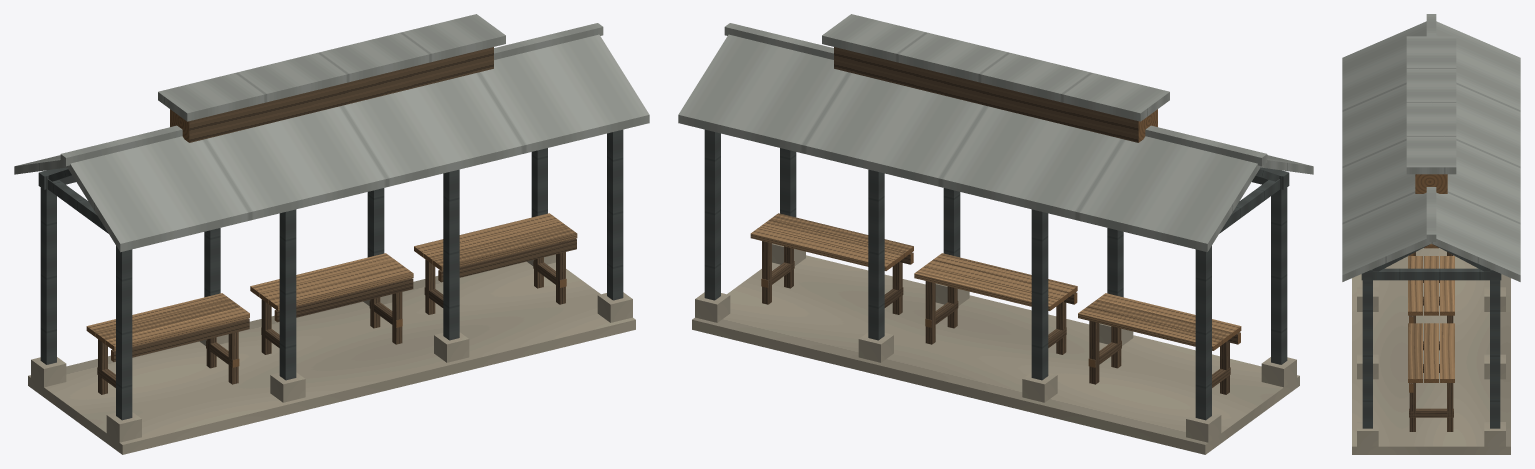
Rendered from owerri.glb.
3 views of the same model, side by side, from view 1: azimuth 30°, elevation 25°; view 2: azimuth 150°, elevation 25°; view 3: azimuth 270°, elevation 25° (orthographic). The views are drawn at different scales.
Visible parts, largest first — view 1: owerri; view 2: owerri; view 3: owerri.
Boxes of the visible parts, x1=… form: owerri: x1=14, y1=14, x2=649, y2=454; owerri: x1=678, y1=14, x2=1313, y2=454; owerri: x1=1342, y1=14, x2=1520, y2=454.
Bounding box in the file's own units: 4.4 × 2.3 × 1.5.
1 material, 1 textured.
